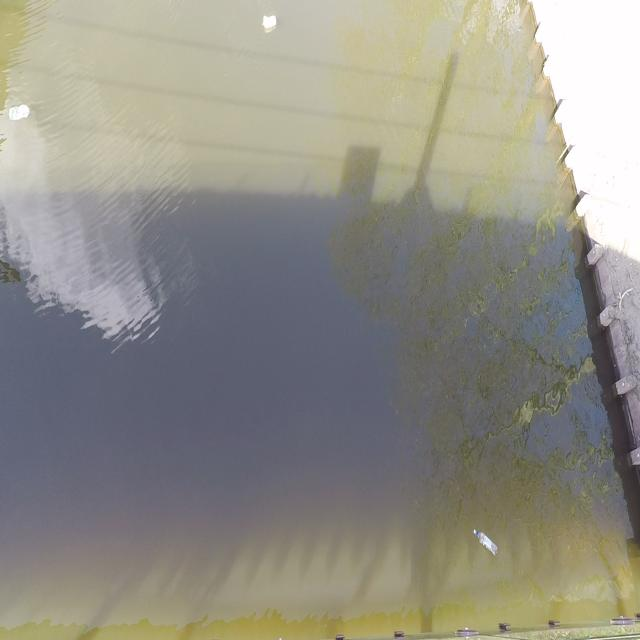Bouteille plastique: (472, 523, 501, 562), (6, 99, 32, 125)
Non plastique: (258, 12, 279, 33)
